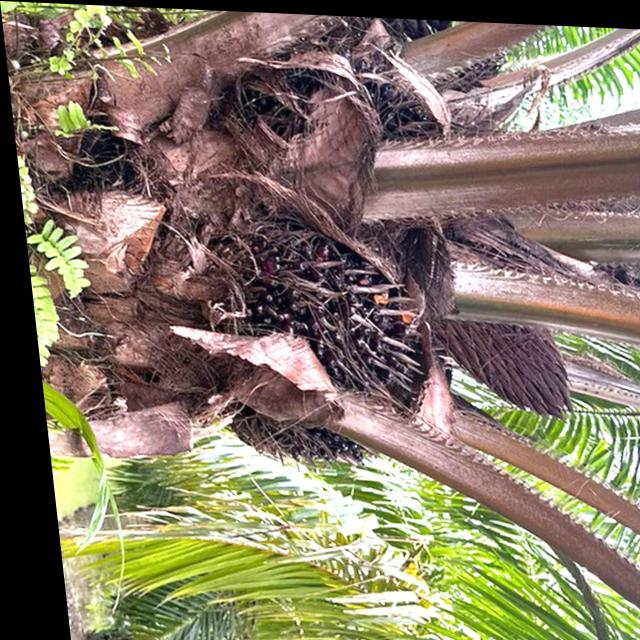ripe: (195, 216, 444, 480)
